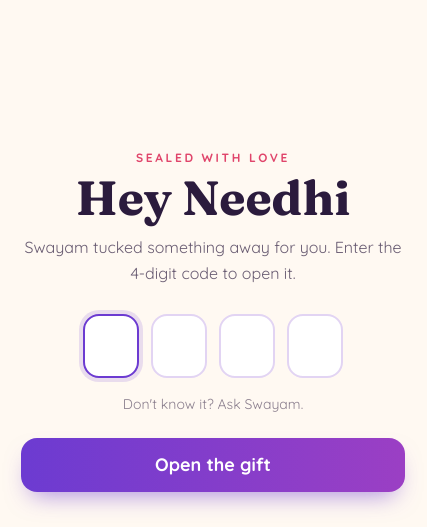
Test: PinLock › unlocks with the configured PIN
Type "2" into the field named "Digit 1".
click(111, 346); type("2")  # box [83, 314, 139, 378]
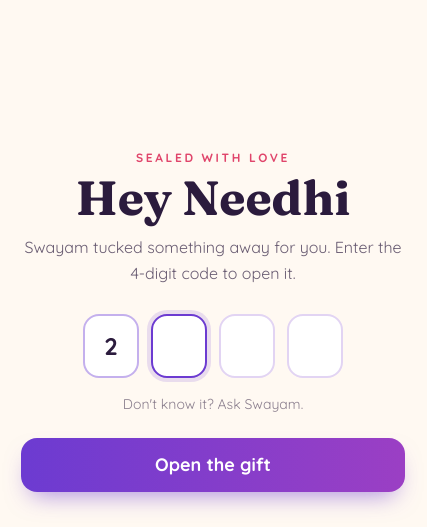
Type "0" into the field named "Digit 2".
click(179, 346); type("0")  # box [151, 314, 207, 378]
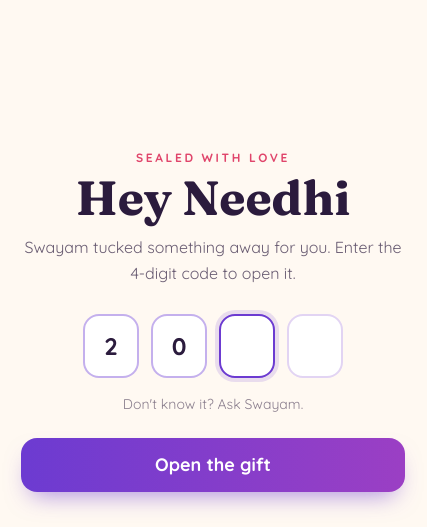
Type "1" into the field named "Digit 3".
click(247, 346); type("1")  # box [219, 314, 275, 378]
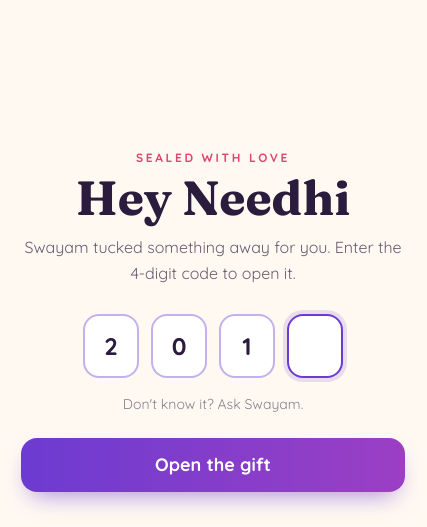
Type "1" into the field named "Digit 4".
click(315, 346); type("1")  # box [287, 314, 343, 378]
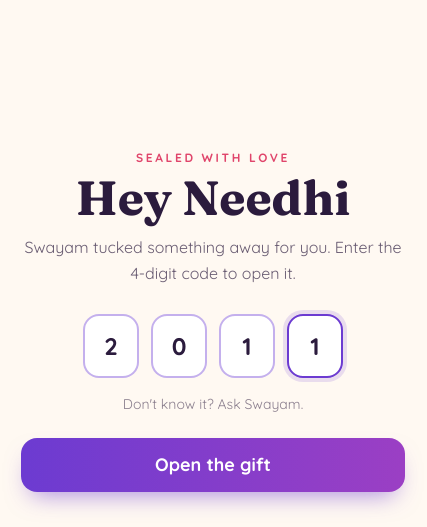
Click the button "Open the gift".
click(213, 465)  # box [21, 438, 405, 492]
Wait 1200 ms
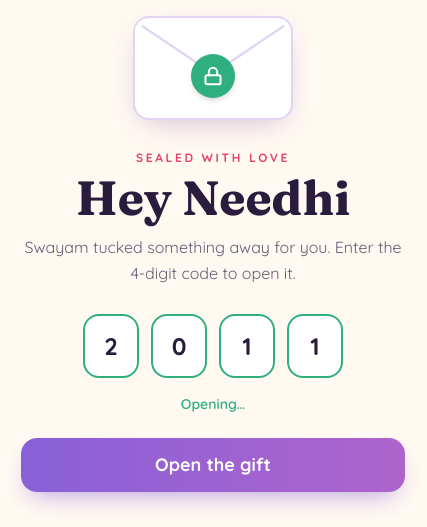
Expected: the text "Opening…" is shown, [181, 394, 245, 418]
